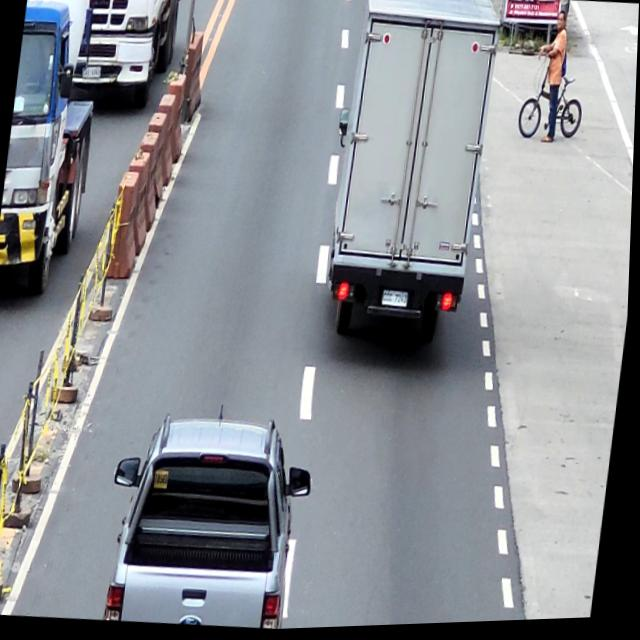Bicycle: (516, 52, 590, 149)
Car: (100, 407, 322, 637)
License-Plate: (384, 291, 410, 310), (81, 65, 102, 80)
Truck: (313, 0, 505, 363), (0, 0, 110, 310), (64, 0, 183, 119)
